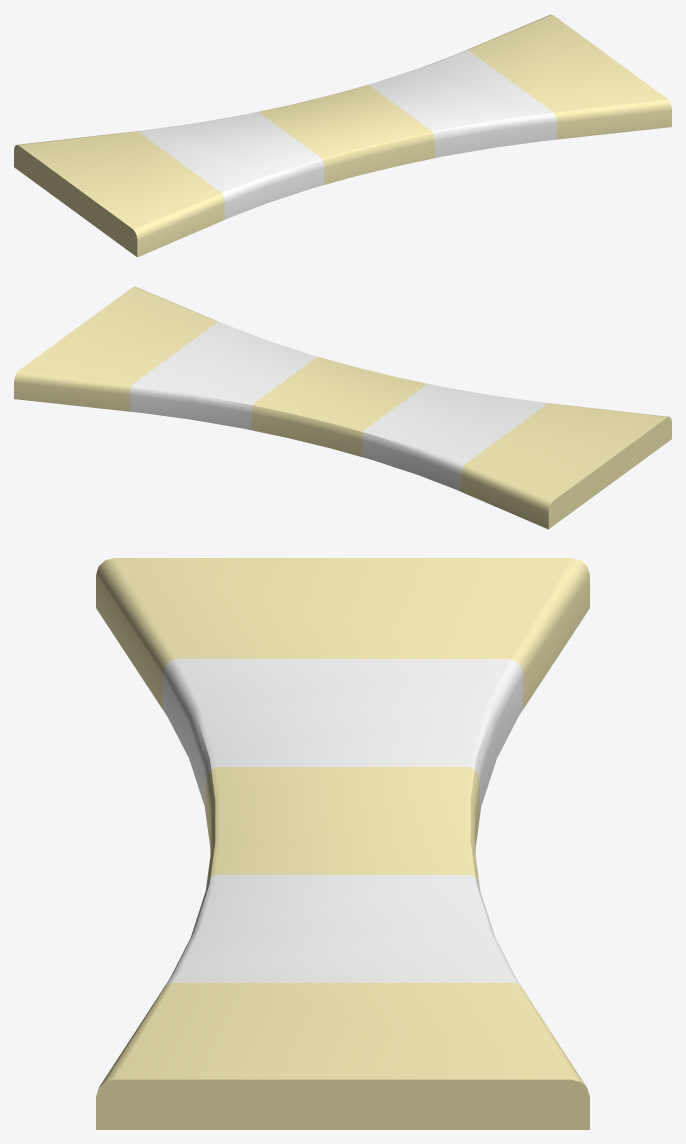
Rendered from RoadNarrow_yellow.fbx.
3 views of the same model, one above another, from view 1: azimuth 30°, elevation 25°; view 2: azimuth 150°, elevation 25°; view 3: azimuth 270°, elevation 25° (orthographic). The views are drawn at different scales.
Parts seen in each view (by area): view 1: RoadNarrow_yellow; view 2: RoadNarrow_yellow; view 3: RoadNarrow_yellow.
Part boxes in pixels (x1=…): RoadNarrow_yellow: x1=14, y1=14, x2=671, y2=257; RoadNarrow_yellow: x1=14, y1=286, x2=671, y2=529; RoadNarrow_yellow: x1=96, y1=558, x2=589, y2=1129.
Size of the model in its own units: 750 by 33.61 by 300.
Materials: 1 (1 with a texture image).
